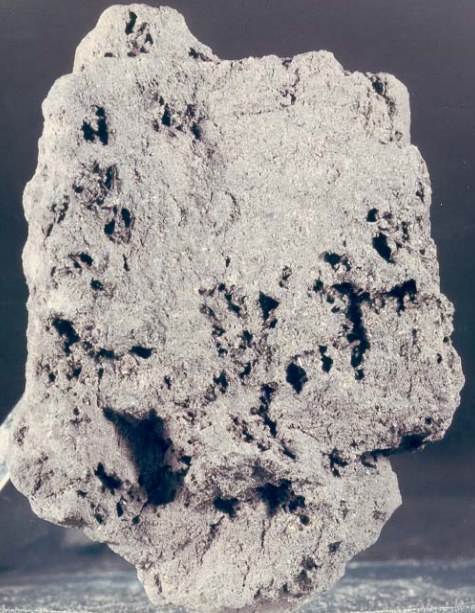Basalt: (23, 28, 471, 609), (81, 94, 345, 537)
